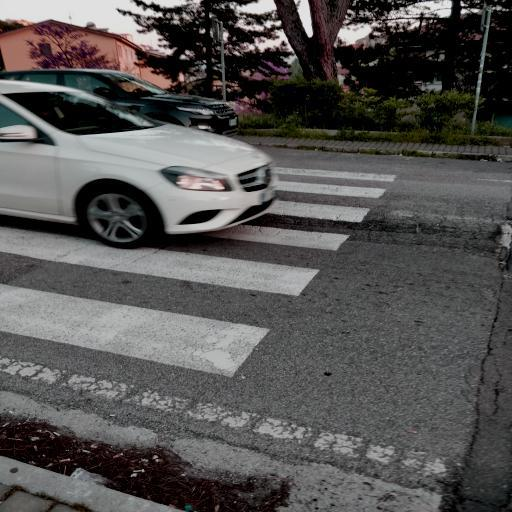crosswalk: (0, 218, 326, 393)
